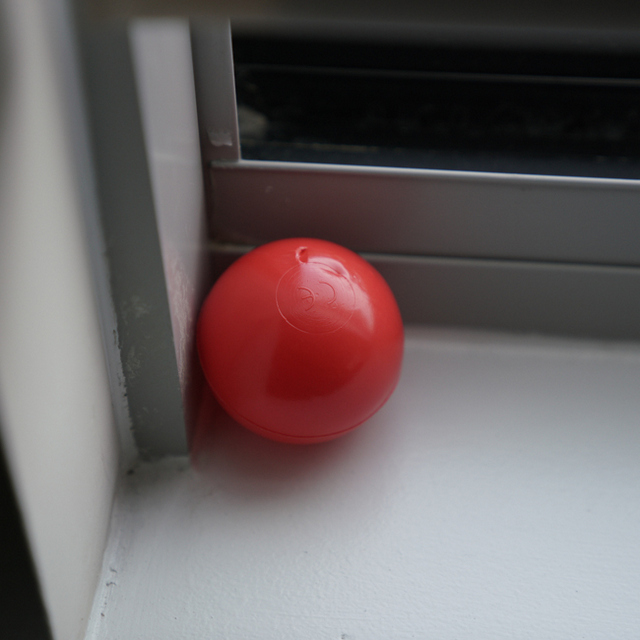Ball: (203, 233, 405, 444)
